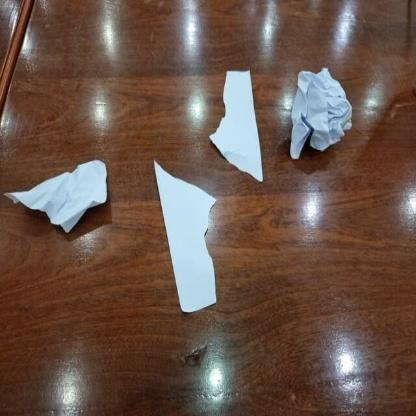trash: (148, 156, 224, 316), (0, 158, 114, 239), (291, 63, 353, 174), (212, 67, 271, 183)
